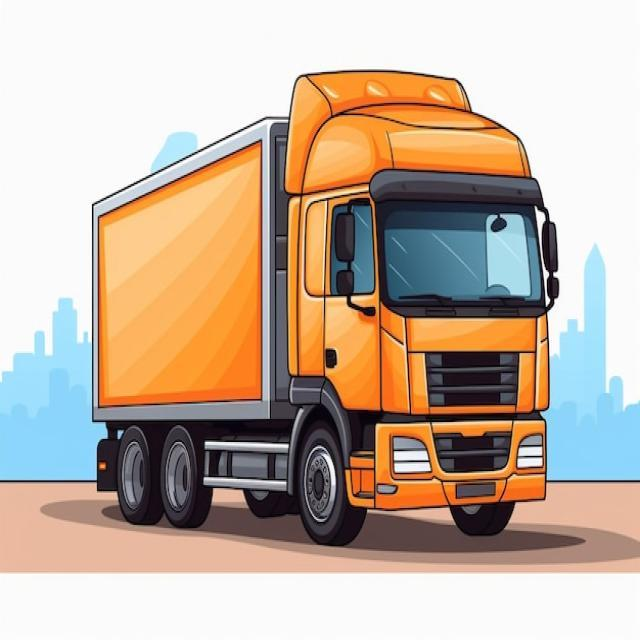traffic light: (90, 66, 560, 548)
